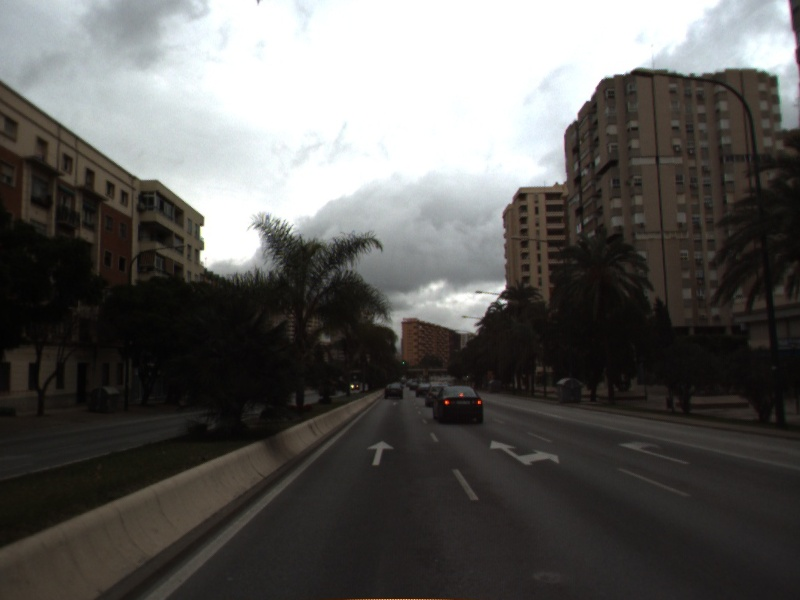RIGHT: (616, 437, 693, 467)
STRAIGHT: (365, 438, 397, 467)
STRAIGHT_RIGHT: (488, 438, 561, 467)
